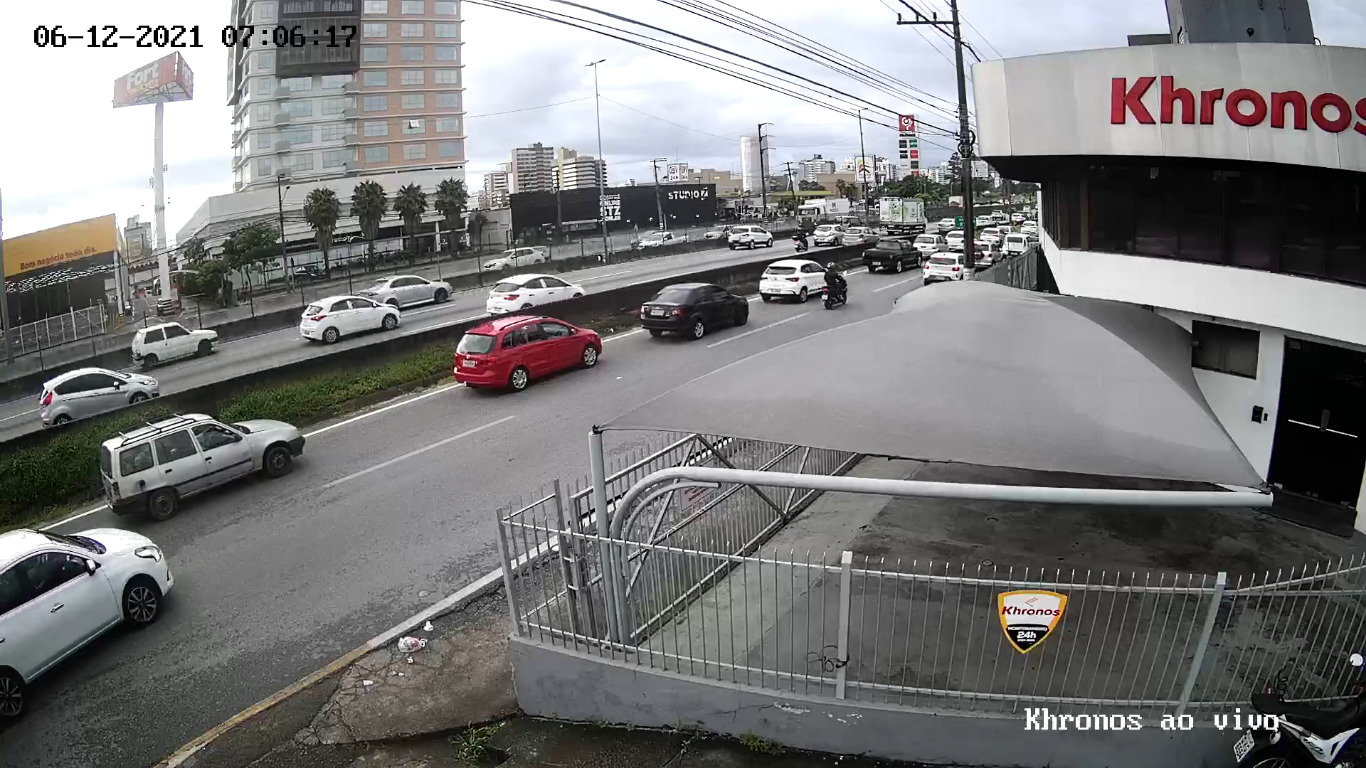car: (98, 414, 305, 520), (454, 312, 603, 392), (639, 280, 749, 344)
